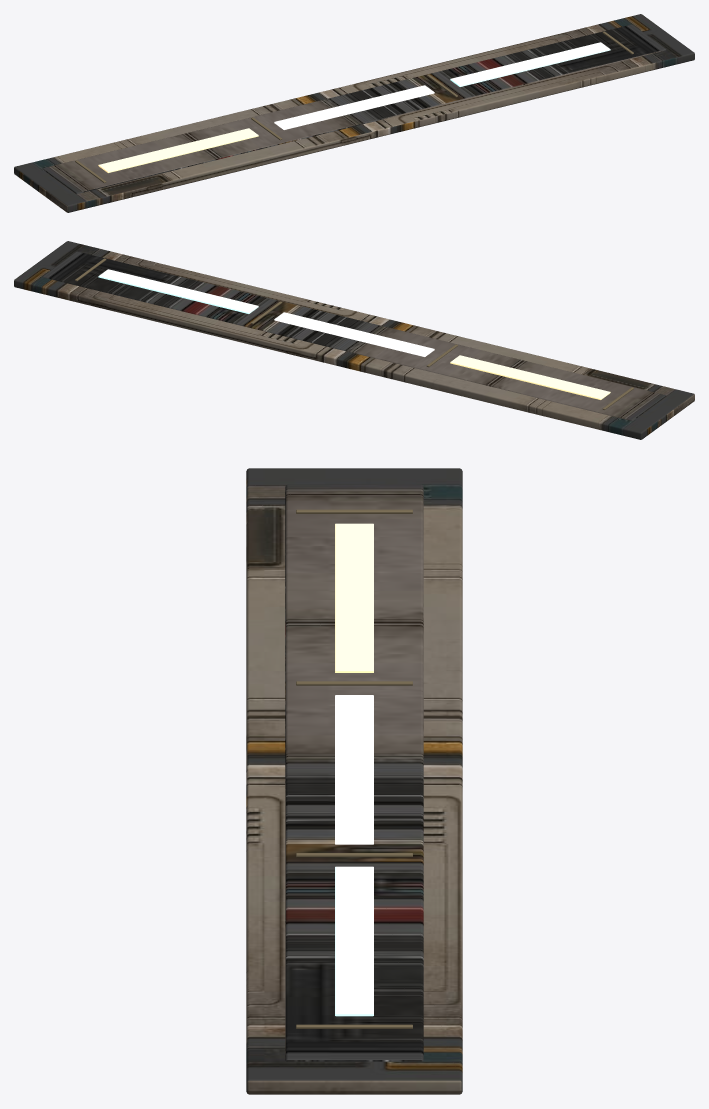
Rendered from hp_room_residential_floor_path_inlay.glb.
3 views of the same model, one above another, from view 1: azimuth 30°, elevation 25°; view 2: azimuth 150°, elevation 25°; view 3: azimuth 270°, elevation 25° (orthographic). The views are drawn at different scales.
Parts seen in each view (by area): view 1: long_dark_floor_inlay_backer, brushed_route_plate, white_middle_route_segment, cyan_last_route_segment, warm_first_route_segment; view 2: long_dark_floor_inlay_backer, brushed_route_plate, white_middle_route_segment, cyan_last_route_segment, warm_first_route_segment; view 3: brushed_route_plate, long_dark_floor_inlay_backer, cyan_last_route_segment, warm_first_route_segment, white_middle_route_segment.
Boxes of the visible parts, x1,y1,x2,y2 form: long_dark_floor_inlay_backer: [14, 14, 694, 212]; brushed_route_plate: [42, 24, 666, 193]; white_middle_route_segment: [274, 85, 434, 129]; cyan_last_route_segment: [450, 42, 610, 86]; warm_first_route_segment: [98, 128, 258, 172]; long_dark_floor_inlay_backer: [14, 241, 694, 439]; brushed_route_plate: [42, 251, 666, 420]; white_middle_route_segment: [274, 312, 434, 356]; cyan_last_route_segment: [98, 269, 258, 313]; warm_first_route_segment: [450, 355, 610, 399]; brushed_route_plate: [285, 484, 423, 1061]; long_dark_floor_inlay_backer: [246, 468, 462, 1094]; cyan_last_route_segment: [335, 866, 373, 1016]; warm_first_route_segment: [335, 523, 373, 672]; white_middle_route_segment: [335, 695, 373, 844].
Size of the model in its own units: 4.72 by 0.0765 by 0.7036.
Materials: 6 (2 with a texture image).
